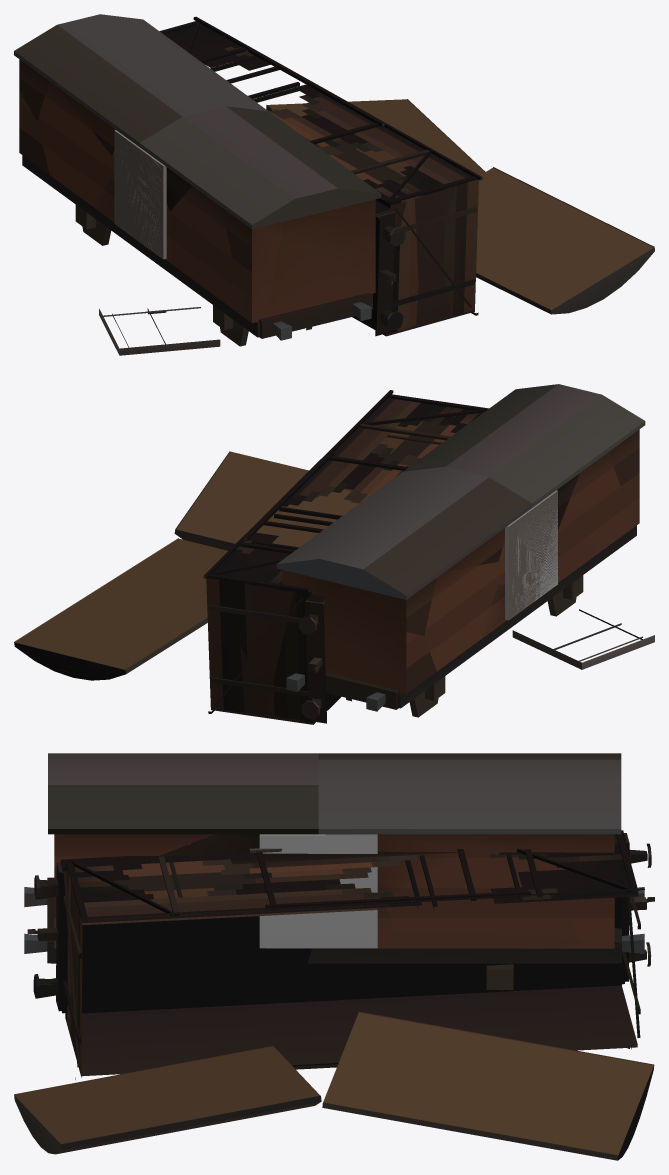
File: train_any_wagon_fractured.glb
The picture shows the model from 3 angles, top to bottom: view 1: azimuth 30°, elevation 25°; view 2: azimuth 150°, elevation 25°; view 3: azimuth 270°, elevation 25°; orthographic projection. The views are drawn at different scales.
Visible parts, largest first — view 1: train_any_wagon_DMG_mesh, train_any_wagon_RUIN_LOD0_mesh, train_any_wagon_RUIN_LOD1_loose_roof_mesh, train_any_wagon_FRAC_13_mesh, train_any_wagon_FRAC_19_mesh, train_any_wagon_RUIN_LOD2_mesh, train_any_wagon_DMG_door_mesh, train_any_wagon_FRAC_04_mesh, train_any_wagon_RUIN_LOD1_mesh, train_any_wagon_RUIN_LOD1_loose_roof_2_mesh, train_any_wagon_FRAC_02_mesh, train_any_wagon_FRAC_08_mesh (+6 smaller); view 2: train_any_wagon_DMG_mesh, train_any_wagon_RUIN_LOD0_mesh, train_any_wagon_RUIN_LOD1_loose_roof_2_mesh, train_any_wagon_RUIN_LOD1_loose_roof_mesh, train_any_wagon_RUIN_LOD1_mesh, train_any_wagon_FRAC_19_mesh, train_any_wagon_DMG_door_mesh, train_any_wagon_FRAC_01_mesh, train_any_wagon_FRAC_17_mesh, train_any_wagon_FRAC_20_mesh, train_any_wagon_FRAC_08_mesh, train_any_wagon_RUIN_LOD2_mesh (+6 smaller); view 3: train_any_wagon_DMG_mesh, train_any_wagon_RUIN_LOD0_mesh, train_any_wagon_RUIN_LOD1_mesh, train_any_wagon_RUIN_LOD1_loose_roof_2_mesh, train_any_wagon_RUIN_LOD1_loose_roof_mesh, train_any_wagon_FRAC_00_mesh, train_any_wagon_RUIN_LOD2_mesh, train_any_wagon_FRAC_06_mesh, train_any_wagon_FRAC_09_mesh, train_any_wagon_RUIN_LOD0_loose_roof_2_mesh, train_any_wagon_RUIN_LOD0_loose_roof_mesh, train_any_wagon_FRAC_10_mesh (+2 smaller).
Boxes of the visible parts, x1,y1,x2,y2 form: train_any_wagon_DMG_mesh: (14, 14, 381, 346); train_any_wagon_RUIN_LOD0_mesh: (159, 16, 482, 336); train_any_wagon_RUIN_LOD1_loose_roof_mesh: (476, 167, 654, 310); train_any_wagon_FRAC_13_mesh: (266, 199, 375, 317); train_any_wagon_FRAC_19_mesh: (37, 81, 111, 215); train_any_wagon_RUIN_LOD2_mesh: (191, 46, 478, 329); train_any_wagon_DMG_door_mesh: (114, 130, 166, 259); train_any_wagon_FRAC_04_mesh: (259, 226, 375, 340); train_any_wagon_RUIN_LOD1_mesh: (180, 45, 407, 336); train_any_wagon_RUIN_LOD1_loose_roof_2_mesh: (266, 99, 484, 175); train_any_wagon_FRAC_02_mesh: (252, 221, 284, 331); train_any_wagon_FRAC_08_mesh: (171, 266, 257, 346); train_any_wagon_DMG_mesh: (276, 384, 645, 717); train_any_wagon_RUIN_LOD0_mesh: (203, 390, 488, 724); train_any_wagon_RUIN_LOD1_loose_roof_2_mesh: (15, 538, 227, 676); train_any_wagon_RUIN_LOD1_loose_roof_mesh: (174, 451, 358, 550); train_any_wagon_RUIN_LOD1_mesh: (240, 417, 442, 724); train_any_wagon_FRAC_19_mesh: (424, 561, 498, 681); train_any_wagon_DMG_door_mesh: (505, 490, 557, 620); train_any_wagon_FRAC_01_mesh: (286, 632, 436, 711); train_any_wagon_FRAC_17_mesh: (316, 579, 406, 647); train_any_wagon_FRAC_20_mesh: (505, 490, 557, 619); train_any_wagon_FRAC_08_mesh: (550, 528, 636, 616); train_any_wagon_RUIN_LOD2_mesh: (206, 417, 456, 719); train_any_wagon_DMG_mesh: (24, 753, 644, 969); train_any_wagon_RUIN_LOD0_mesh: (27, 830, 654, 1079); train_any_wagon_RUIN_LOD1_mesh: (33, 841, 638, 1076); train_any_wagon_RUIN_LOD1_loose_roof_2_mesh: (322, 1012, 653, 1155); train_any_wagon_RUIN_LOD1_loose_roof_mesh: (14, 1046, 321, 1149); train_any_wagon_FRAC_00_mesh: (259, 834, 403, 963); train_any_wagon_RUIN_LOD2_mesh: (66, 854, 637, 1077); train_any_wagon_FRAC_06_mesh: (398, 948, 607, 989); train_any_wagon_FRAC_09_mesh: (72, 834, 213, 858); train_any_wagon_RUIN_LOD0_loose_roof_2_mesh: (322, 1011, 654, 1160); train_any_wagon_RUIN_LOD0_loose_roof_mesh: (14, 1045, 320, 1154); train_any_wagon_FRAC_10_mesh: (326, 835, 377, 892).
Size of the model in its own units: 10.48 by 3.63 by 10.06.
